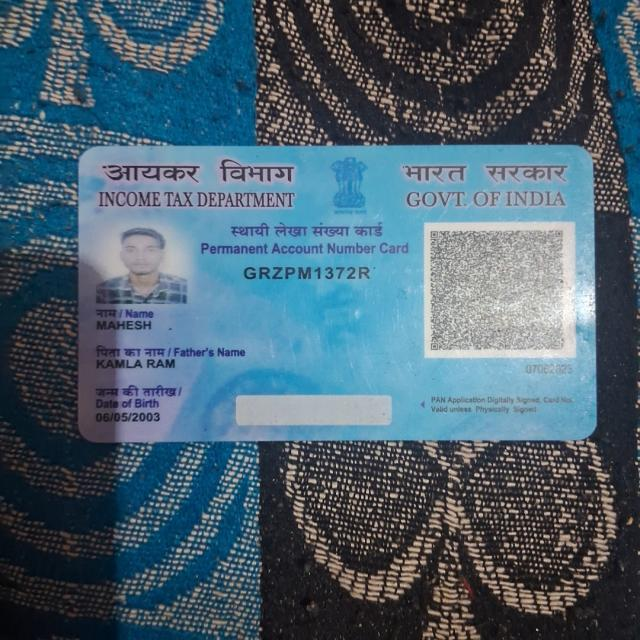pan_card: (79, 149, 594, 435)
